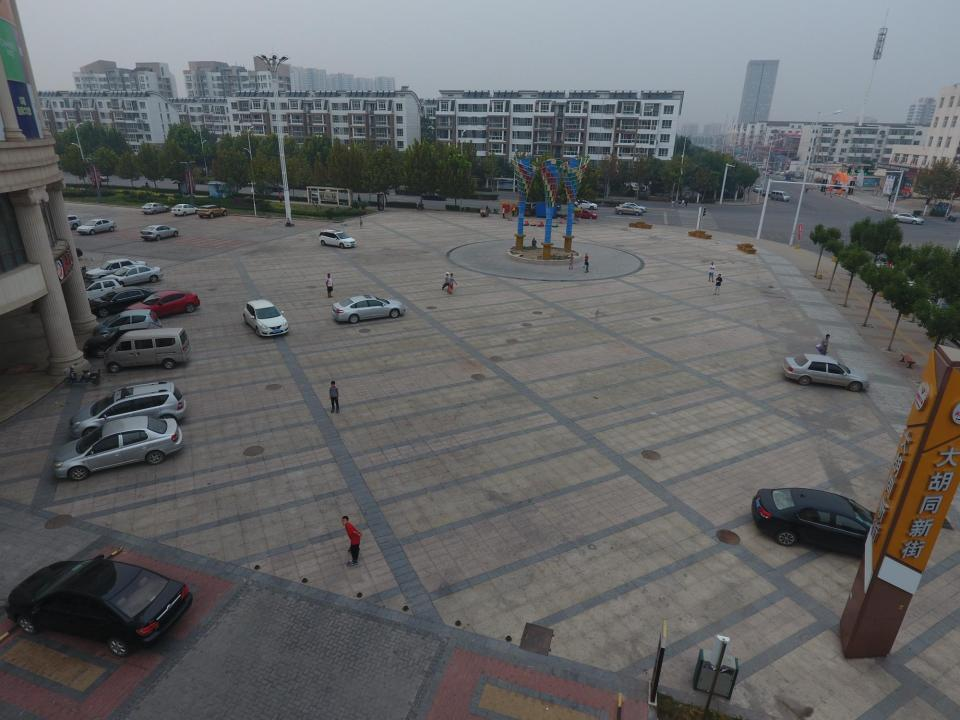car: (4, 554, 192, 658), (751, 487, 901, 562), (50, 416, 183, 482), (68, 381, 187, 438), (781, 352, 870, 393), (83, 286, 161, 316), (123, 290, 200, 319), (331, 295, 406, 324), (83, 329, 157, 358), (91, 309, 161, 339), (242, 297, 289, 338), (85, 258, 147, 281), (101, 264, 164, 285), (76, 277, 128, 301), (78, 279, 124, 304), (317, 229, 356, 249), (140, 224, 179, 240), (76, 219, 117, 234), (49, 215, 82, 230), (197, 204, 227, 219), (890, 212, 924, 224), (140, 202, 170, 215), (171, 204, 199, 216), (567, 208, 597, 219), (571, 199, 598, 210), (615, 205, 643, 215), (619, 202, 647, 212), (303, 192, 324, 202), (421, 192, 446, 200), (89, 172, 108, 181), (266, 185, 290, 192), (760, 189, 770, 196), (752, 185, 762, 192), (784, 172, 797, 176), (816, 177, 824, 183), (794, 174, 806, 178), (775, 170, 785, 174)
van: (103, 327, 192, 373), (770, 190, 790, 202)
